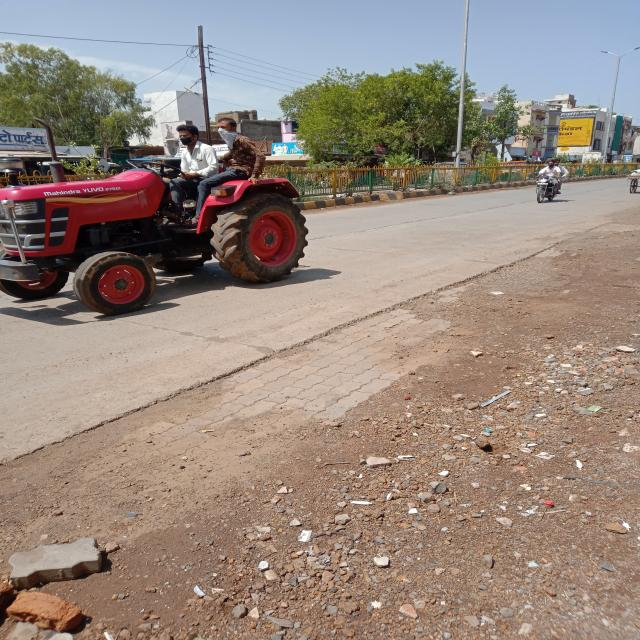Tractor: (1, 87, 312, 326)
